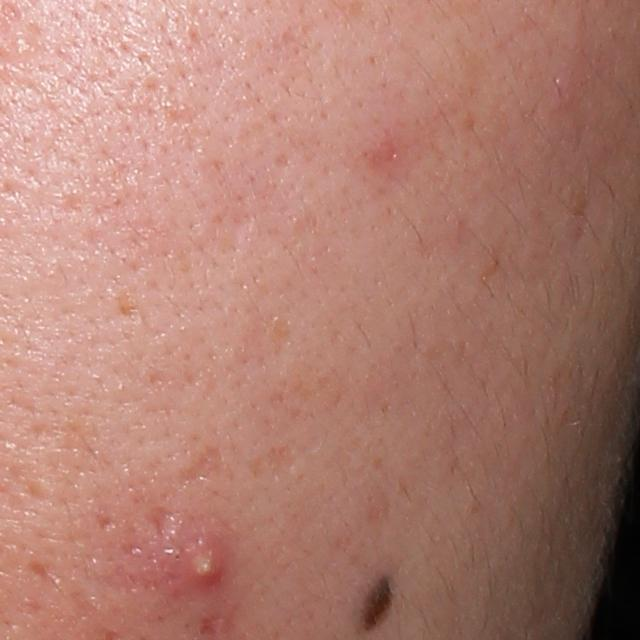atrophic_scar: (178, 442, 232, 489), (246, 445, 300, 480), (140, 503, 183, 539), (26, 559, 61, 592), (196, 614, 224, 637)
nevus: (357, 575, 397, 633)
pustule: (171, 527, 238, 586)
